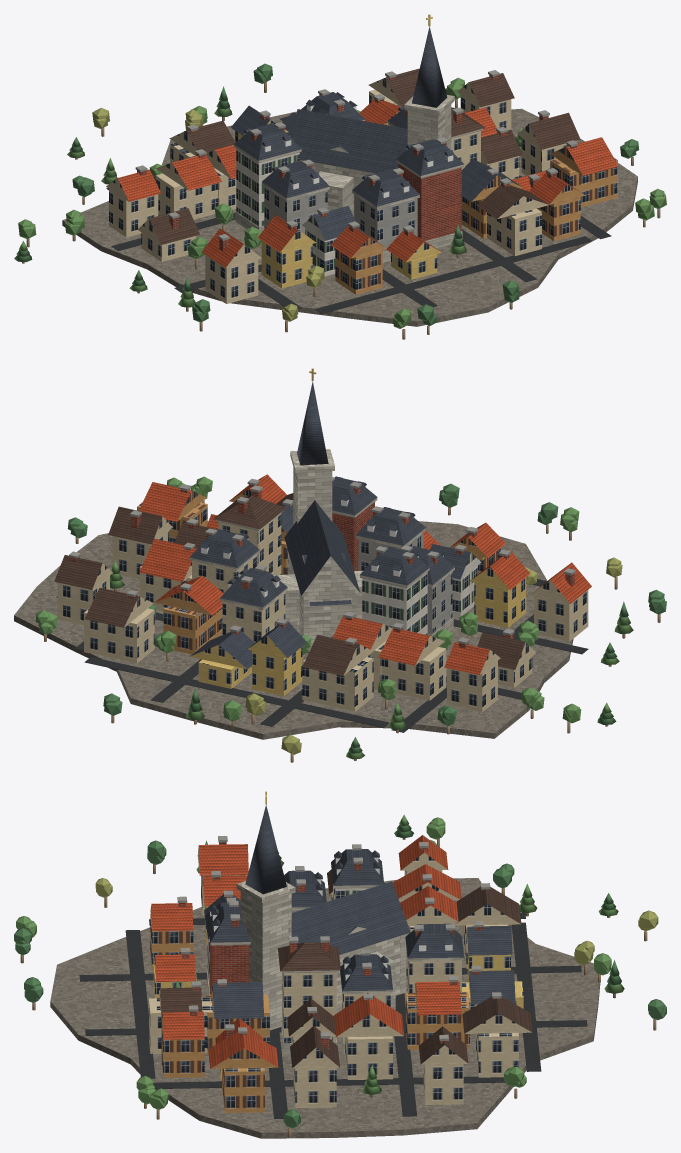
Rendered from city_west_medium.glb.
The picture shows the model from 3 angles, top to bottom: view 1: azimuth 30°, elevation 25°; view 2: azimuth 150°, elevation 25°; view 3: azimuth 270°, elevation 25°; orthographic projection. The views are drawn at different scales.
Visible parts, largest first — view 1: city_west_medium; view 2: city_west_medium; view 3: city_west_medium.
Boxes of the visible parts, box(x1,y1,x2,y2) form: city_west_medium: box(14, 14, 666, 339); city_west_medium: box(14, 368, 666, 762); city_west_medium: box(14, 791, 666, 1138).
Bounding box in the file's own units: 3.48 × 1.26 × 3.14.
19 materials, 13 textured.
